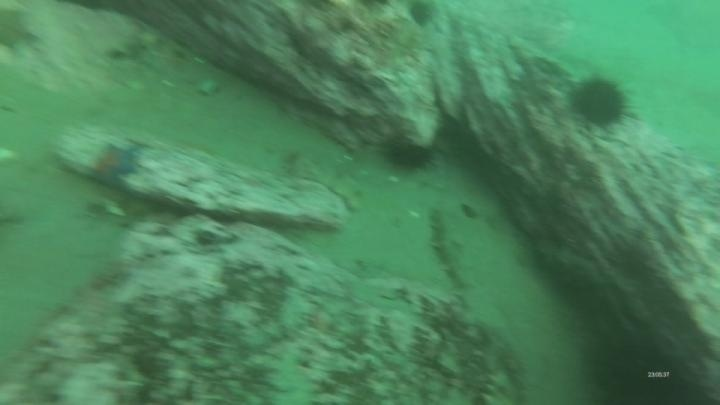echinus: (585, 331, 697, 404), (565, 72, 636, 132), (381, 132, 437, 175)
holothurian: (425, 204, 474, 293)
starfish: (83, 140, 142, 190), (0, 3, 44, 60)
